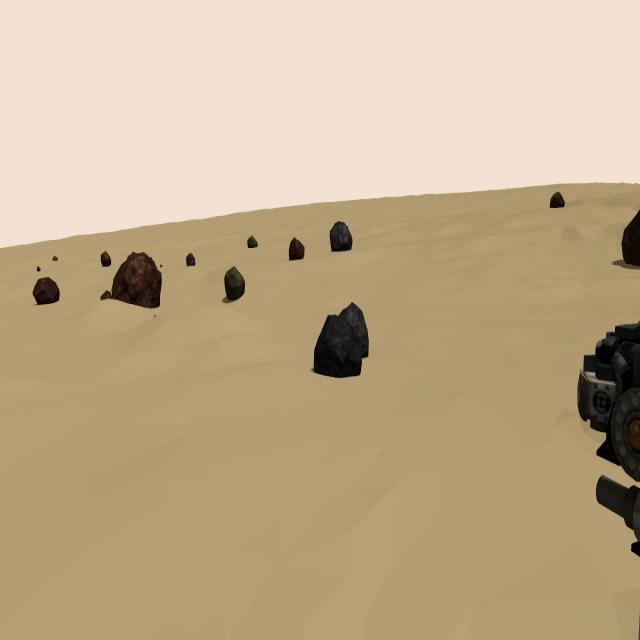rock: (314, 314, 363, 378), (111, 252, 162, 308), (340, 302, 369, 359), (622, 208, 640, 266), (224, 264, 246, 303), (330, 220, 352, 252), (288, 238, 304, 262), (550, 190, 564, 208), (100, 250, 112, 267), (185, 251, 195, 267), (247, 235, 258, 249), (100, 290, 112, 301), (52, 254, 59, 260), (159, 262, 163, 268), (36, 265, 40, 270), (153, 315, 156, 317)
